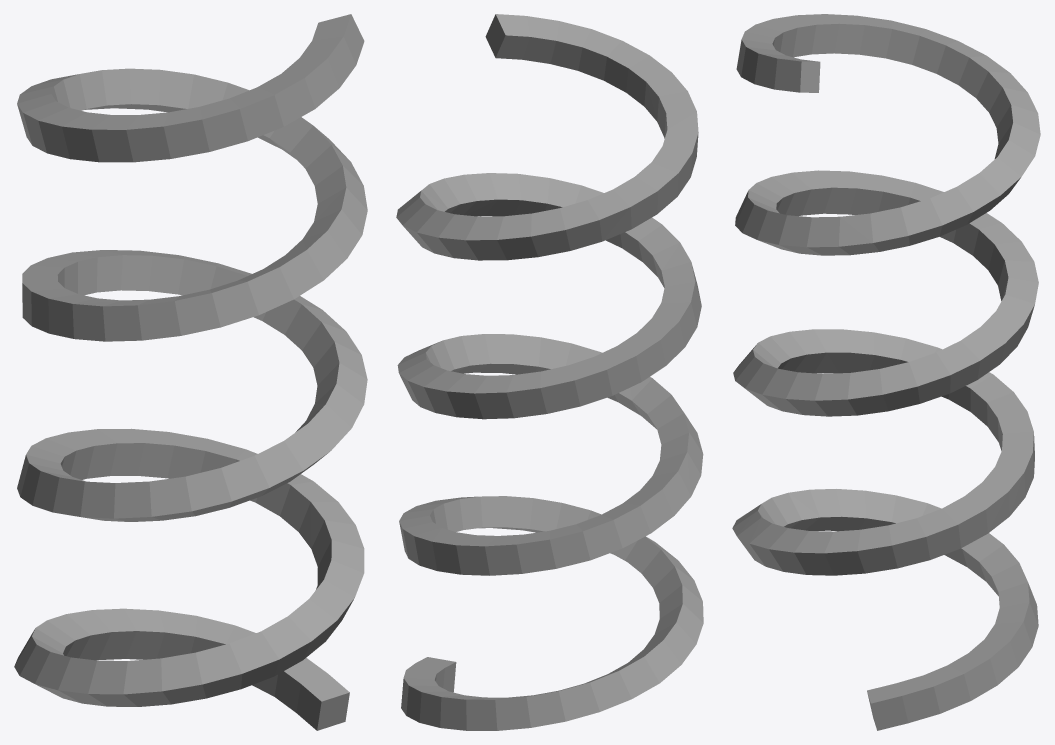
File: Resorte.obj
3 renders of one model, left to right at view 1: azimuth 30°, elevation 25°; view 2: azimuth 150°, elevation 25°; view 3: azimuth 270°, elevation 25°, orthographic. The views are drawn at different scales.
Visible parts, largest first — view 1: Cube.001; view 2: Cube.001; view 3: Cube.001.
Part boxes in pixels (<box>): Cube.001: <box>14,14,367,730</box>; Cube.001: <box>396,14,703,730</box>; Cube.001: <box>732,14,1040,730</box>.
Bounding box in the file's own units: 4.13 × 9.64 × 4.12.
